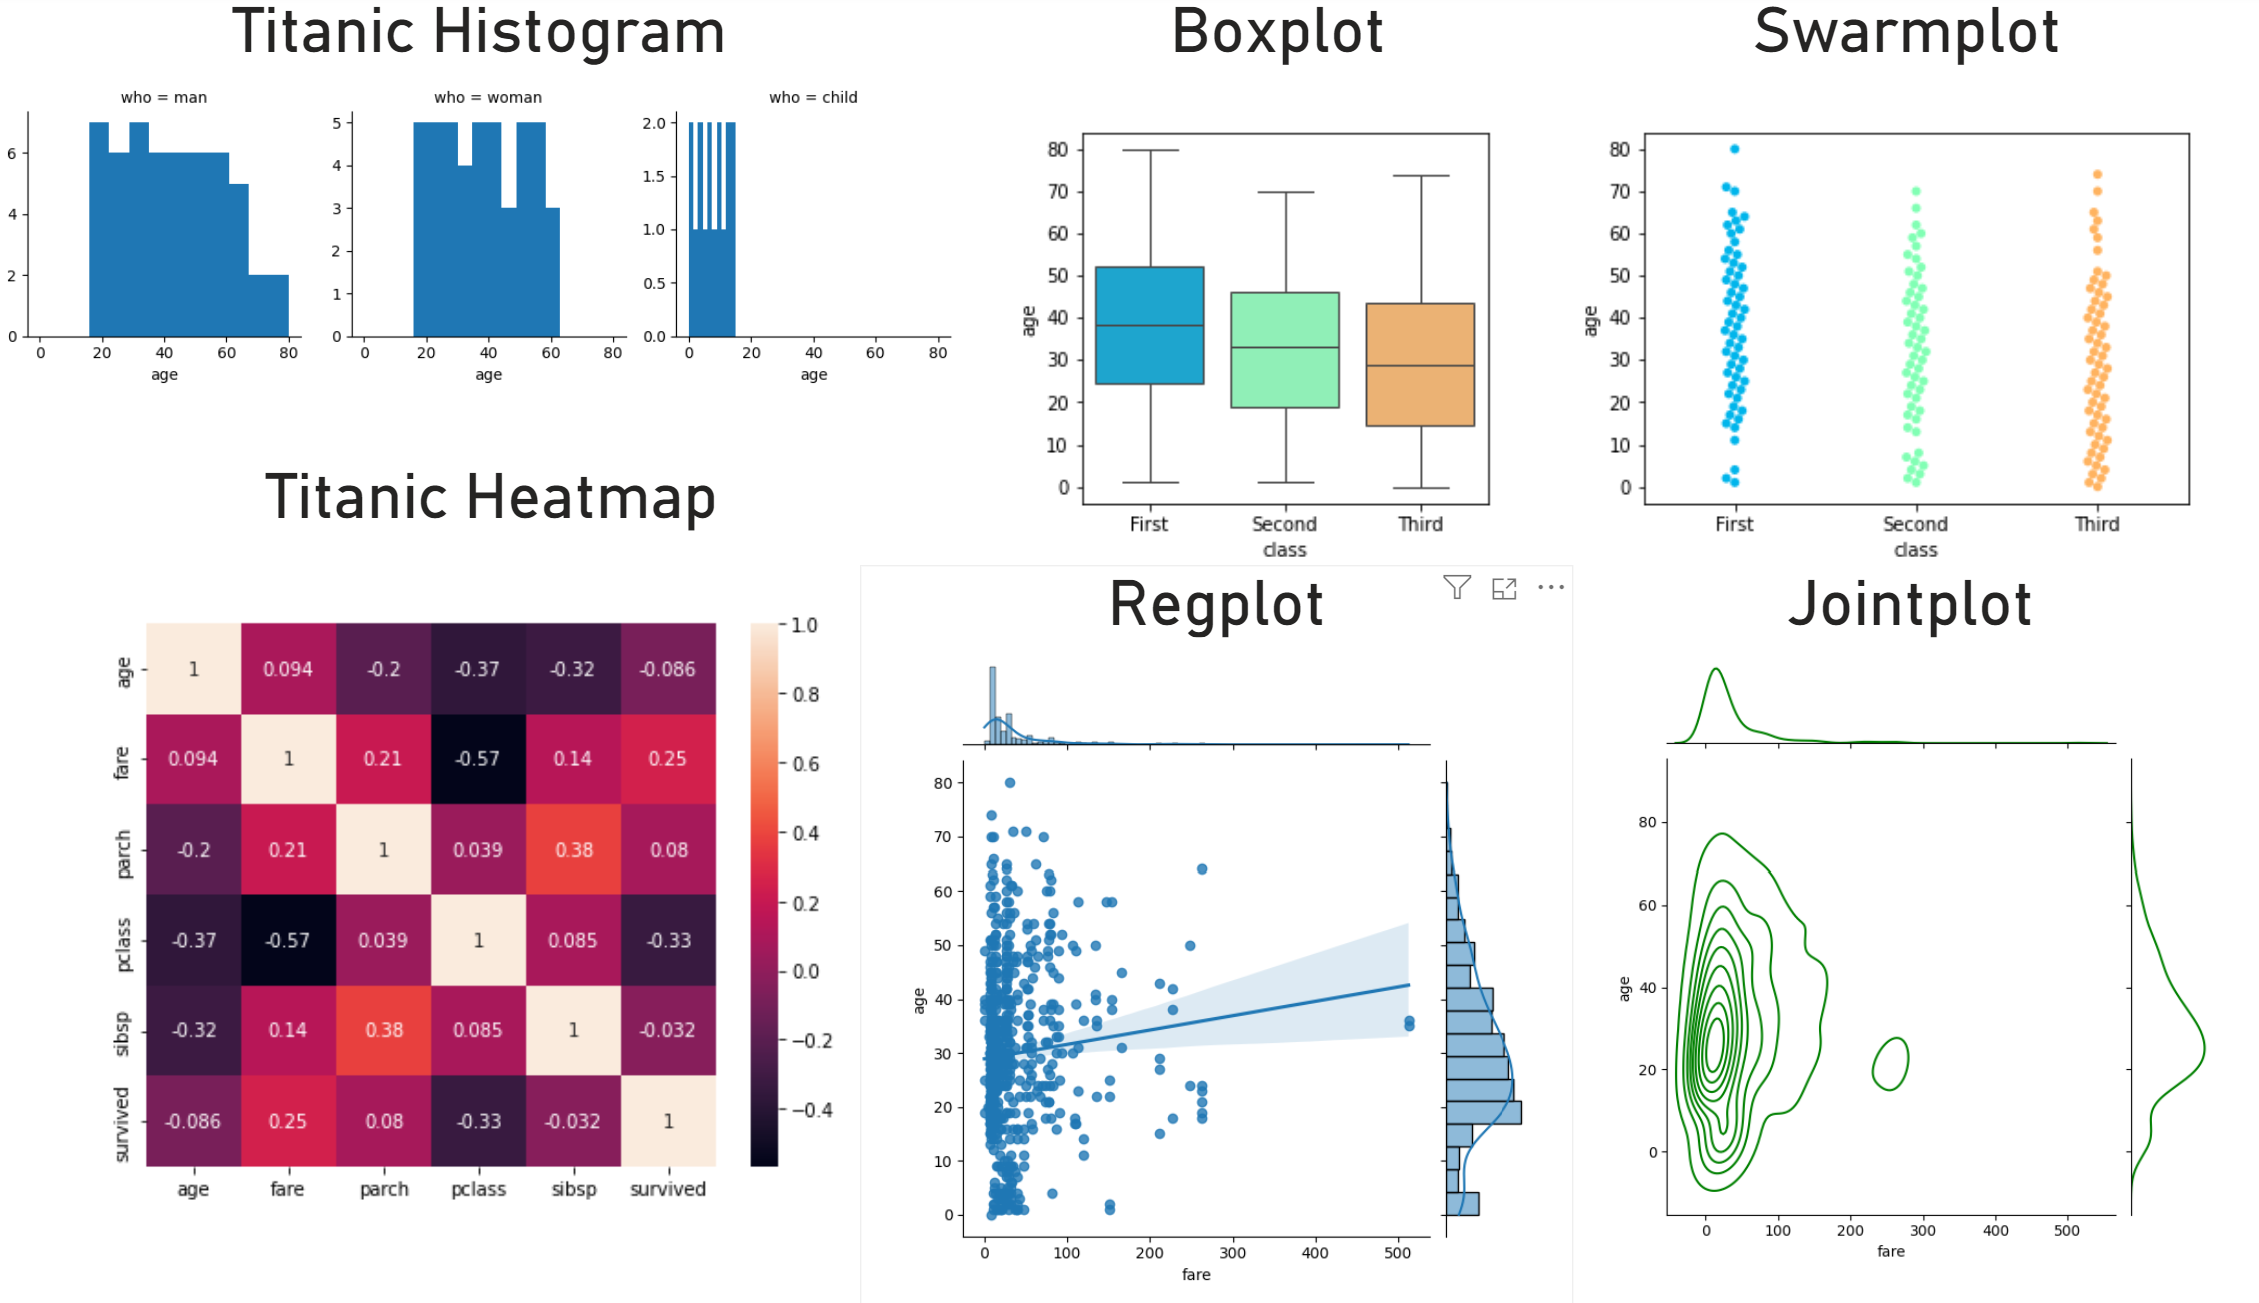

This screenshot's page, from the dashboard's own definition file:
{"tool":"powerbi","page":{"name":"Sivu 2","canvas":[1280,720],"ordinal":1},"visuals":[{"type":"pythonVisual","title":"Titanic Histogram","fields":{"Values":["titanic.age","titanic.who"]},"box":[10.7,0,578.5,227.5],"z":0},{"type":"actionButton","box":[0,0,100,40],"z":1000},{"type":"pythonVisual","title":"Titanic Heatmap","fields":{"Values":["titanic.age","titanic.fare","titanic.parch","titanic.pclass","titanic.sibsp","titanic.survived"]},"box":[49.9,254.6,513.2,434.3],"z":2000},{"type":"pythonVisual","title":"Boxplot","fields":{"Values":["titanic.age","titanic.class"]},"box":[589.1,0,296.5,313.5],"z":3000},{"type":"pythonVisual","title":"Swarmplot","fields":{"Values":["titanic.age","titanic.class"]},"box":[885.6,0,394.4,313.5],"z":4000},{"type":"pythonVisual","title":"Jointplot","fields":{"Values":["titanic.fare","titanic.age"]},"box":[908.6,313.5,352.4,394.4],"z":5000},{"type":"pythonVisual","title":"Regplot","fields":{"Values":["titanic.fare","titanic.age"]},"box":[509.2,313.5,390.4,406.4],"z":6000}]}

Visuals, with their boxes in screenshot pixels (x1, y1, x2, y2), scaled from the page's 1280x720 canvas onto the 2259x1303 screenshot:
"Titanic Histogram" pythonVisual: [19,0,1040,412]
actionButton: [0,0,176,72]
"Titanic Heatmap" pythonVisual: [88,461,994,1247]
"Boxplot" pythonVisual: [1040,0,1563,567]
"Swarmplot" pythonVisual: [1563,0,2258,567]
"Jointplot" pythonVisual: [1604,567,2225,1281]
"Regplot" pythonVisual: [899,567,1588,1302]
